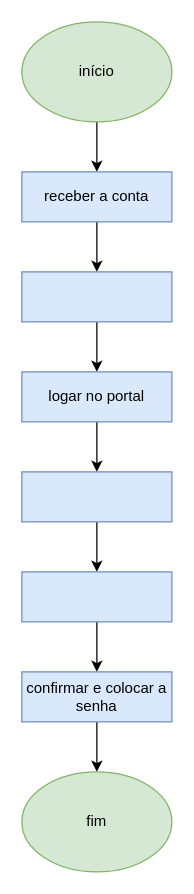
The diagram is 194 pixels wide and 894 high, and some of its shapes have lost their labels. The shapes that lost their labels are listed below. From the top down, each one's centre as x and y in pixels, then its label:
pixel 96 296: abrir o portal do banco
pixel 96 496: copiar o número da conta
pixel 96 596: colar no app do banco
